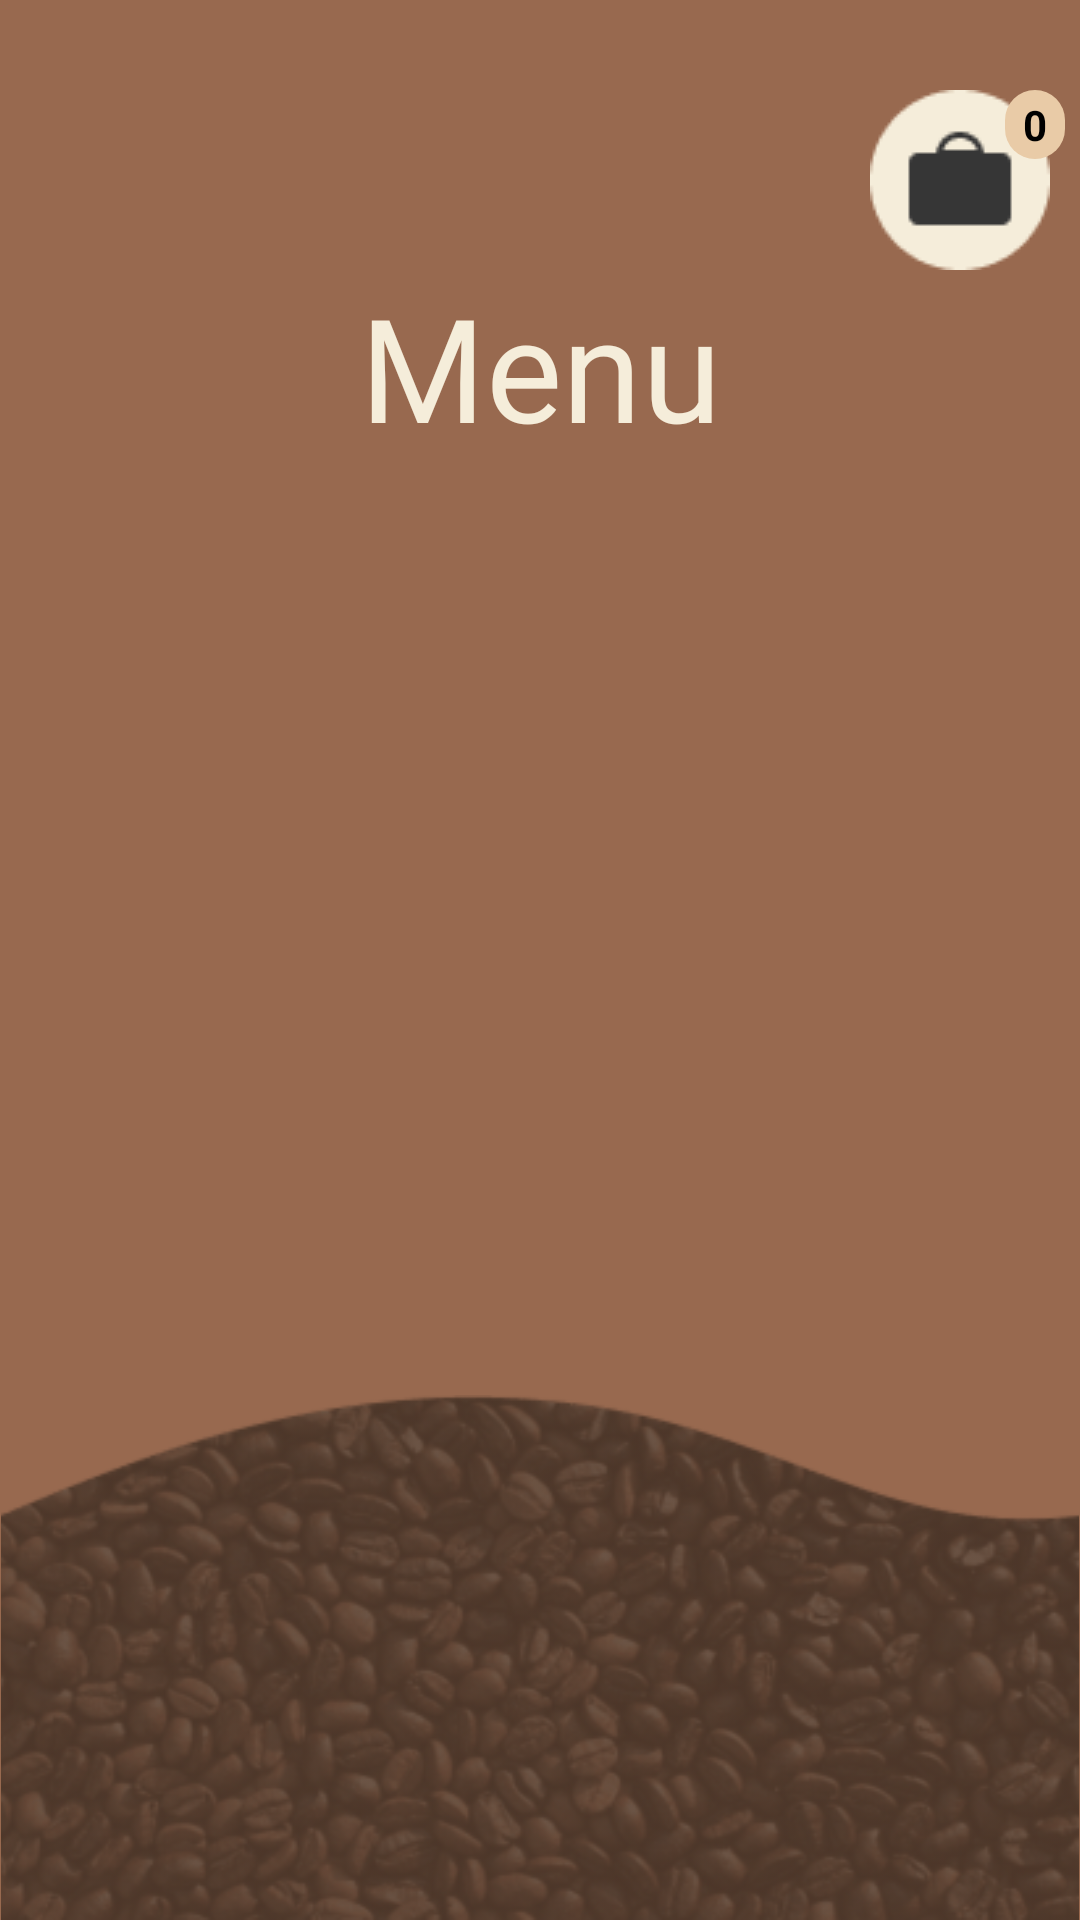

Named icons in this screenshot (1080w x 1920h) and their centers, (x=x, y=y):
cart: (x=960, y=180)
